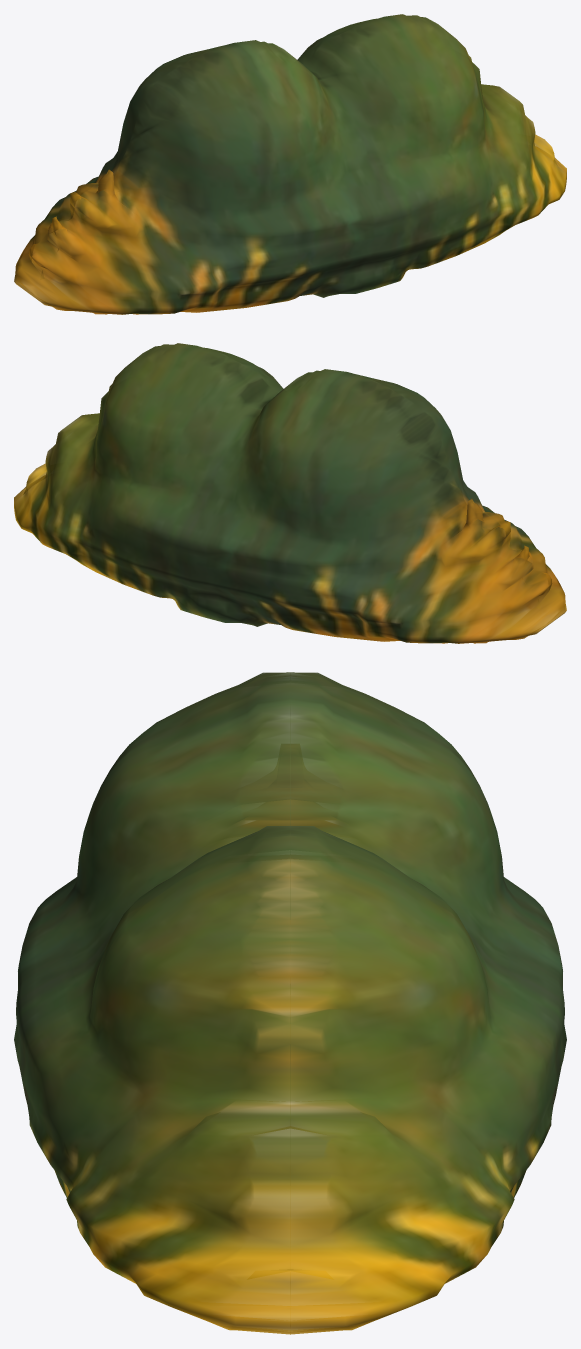
Rendered from 01_rocks_and_bushes_r02_c04.glb.
3 views of the same model, one above another, from view 1: azimuth 30°, elevation 25°; view 2: azimuth 150°, elevation 25°; view 3: azimuth 270°, elevation 25° (orthographic). The views are drawn at different scales.
Parts seen in each view (by area): view 1: 01_rocks_and_bushes_r02_c04; view 2: 01_rocks_and_bushes_r02_c04; view 3: 01_rocks_and_bushes_r02_c04.
Boxes of the visible parts, x1,y1,x2,y2 form: 01_rocks_and_bushes_r02_c04: (14,14,566,314); 01_rocks_and_bushes_r02_c04: (14,343,566,643); 01_rocks_and_bushes_r02_c04: (14,672,566,1334).
Size of the model in its own units: 2.23 by 0.8899 by 1.11.
Materials: 1 (1 with a texture image).
